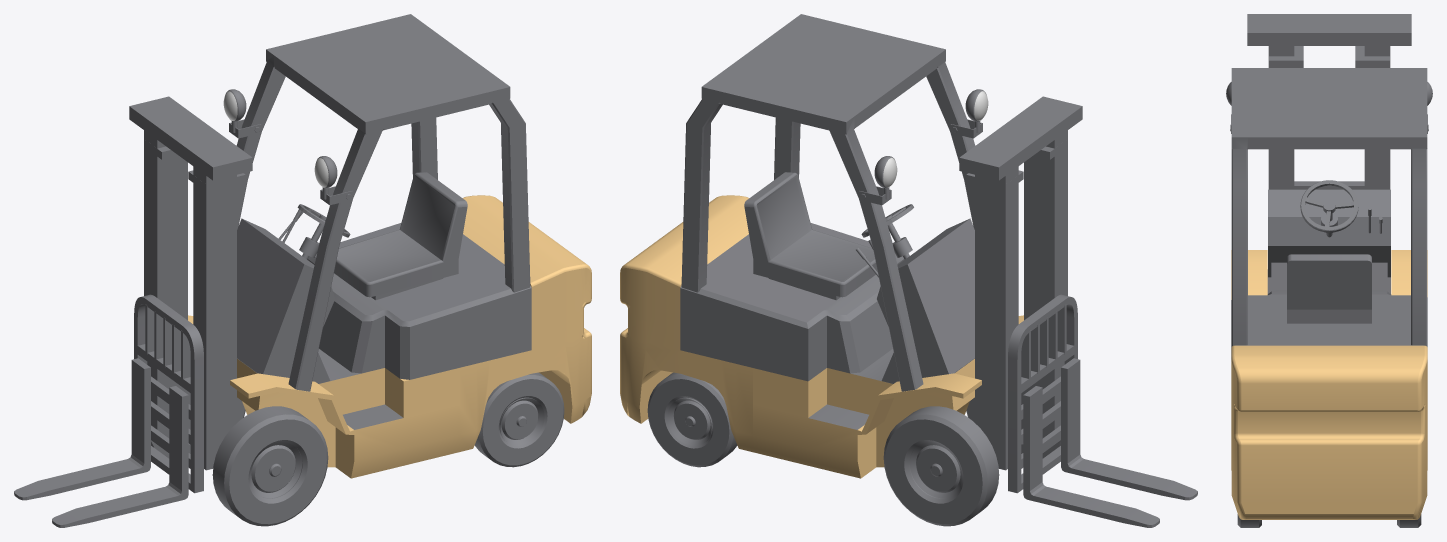
Rendered from forklift_fixed.fbx.
3 views of the same model, side by side, from view 1: azimuth 30°, elevation 25°; view 2: azimuth 150°, elevation 25°; view 3: azimuth 270°, elevation 25° (orthographic).
Visible parts, largest first — view 1: Roof, Cube_3_2, stand, Cube_3, fork, wheels, Panel, left_wheel, Cube_4, Cube_6, Sphere; view 2: Roof, Cube_3_2, stand, Cube_3, fork, wheels, Panel, right_wheel, Cube_4, Cube_6, Sphere; view 3: Cube_3_2, Roof, stand, Panel, Cube_3, Cube_6, Cube_4, Tube_3, fork.
Boxes of the visible parts, x1=… form: Roof: x1=236, y1=14, x2=530, y2=391; Cube_3_2: x1=188, y1=195, x2=591, y2=478; stand: x1=129, y1=96, x2=252, y2=470; Cube_3: x1=307, y1=223, x2=531, y2=379; fork: x1=14, y1=294, x2=203, y2=527; wheels: x1=151, y1=391, x2=328, y2=526; Panel: x1=237, y1=218, x2=334, y2=383; left_wheel: x1=474, y1=372, x2=564, y2=467; Cube_4: x1=334, y1=229, x2=458, y2=297; Cube_6: x1=399, y1=172, x2=467, y2=261; Sphere: x1=223, y1=89, x2=337, y2=188; Roof: x1=681, y1=14, x2=975, y2=391; Cube_3_2: x1=620, y1=195, x2=1023, y2=478; stand: x1=959, y1=96, x2=1082, y2=470; Cube_3: x1=680, y1=223, x2=904, y2=381; fork: x1=1008, y1=294, x2=1197, y2=527; wheels: x1=883, y1=391, x2=1060, y2=526; Panel: x1=877, y1=218, x2=974, y2=383; right_wheel: x1=647, y1=372, x2=737, y2=467; Cube_4: x1=753, y1=229, x2=877, y2=297; Cube_6: x1=744, y1=172, x2=812, y2=269; Sphere: x1=874, y1=89, x2=988, y2=188; Cube_3_2: x1=1231, y1=250, x2=1427, y2=519; Roof: x1=1231, y1=68, x2=1427, y2=346; stand: x1=1247, y1=14, x2=1411, y2=189; Panel: x1=1268, y1=189, x2=1390, y2=293; Cube_3: x1=1231, y1=290, x2=1427, y2=346; Cube_6: x1=1287, y1=254, x2=1371, y2=309; Cube_4: x1=1287, y1=309, x2=1371, y2=323; Tube_3: x1=1300, y1=180, x2=1358, y2=232; fork: x1=1294, y1=181, x2=1364, y2=189.
Size of the model in its own units: 705 by 509 by 252.
